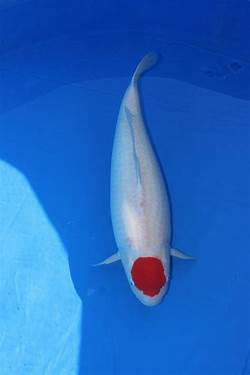sun: (92, 50, 196, 308)
